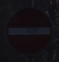No entry: (5, 5, 54, 57)
